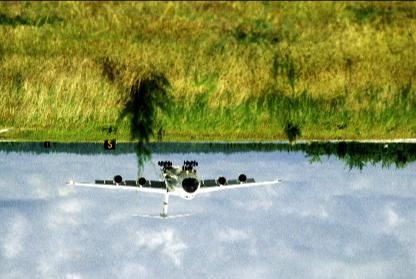C17: (64, 161, 283, 219)
